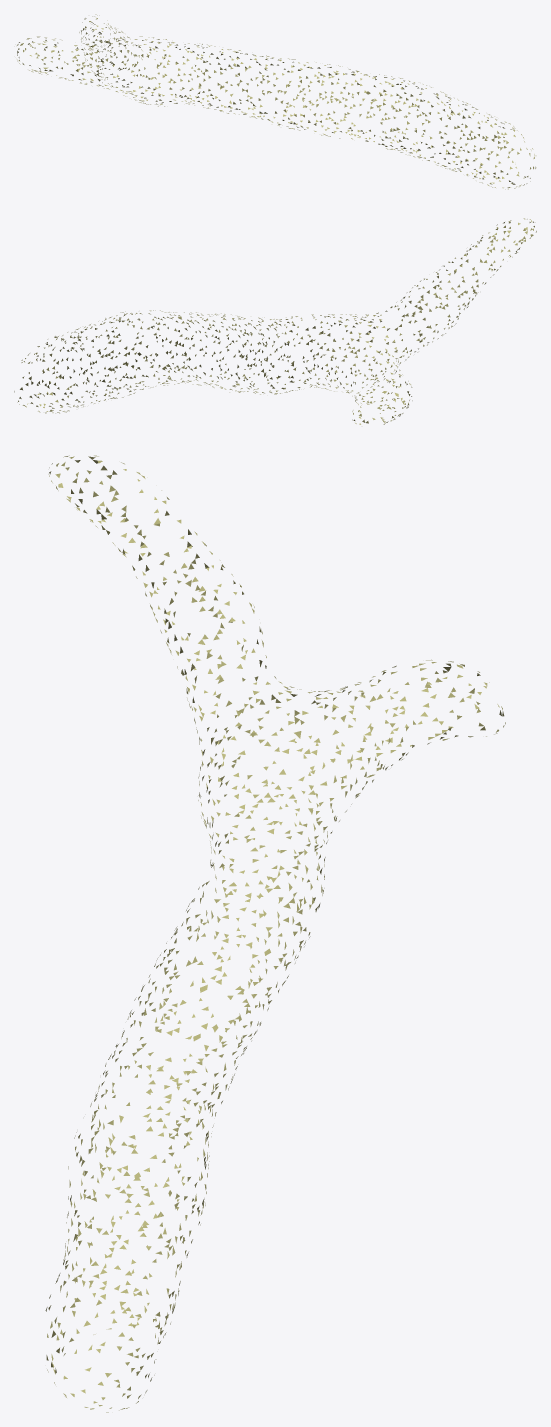
File: morph_009.glb
The picture shows the model from 3 angles, top to bottom: view 1: azimuth 30°, elevation 25°; view 2: azimuth 150°, elevation 25°; view 3: azimuth 270°, elevation 25°; orthographic projection. The views are drawn at different scales.
Size of the model in its own units: 106 by 60.91 by 47.01.
